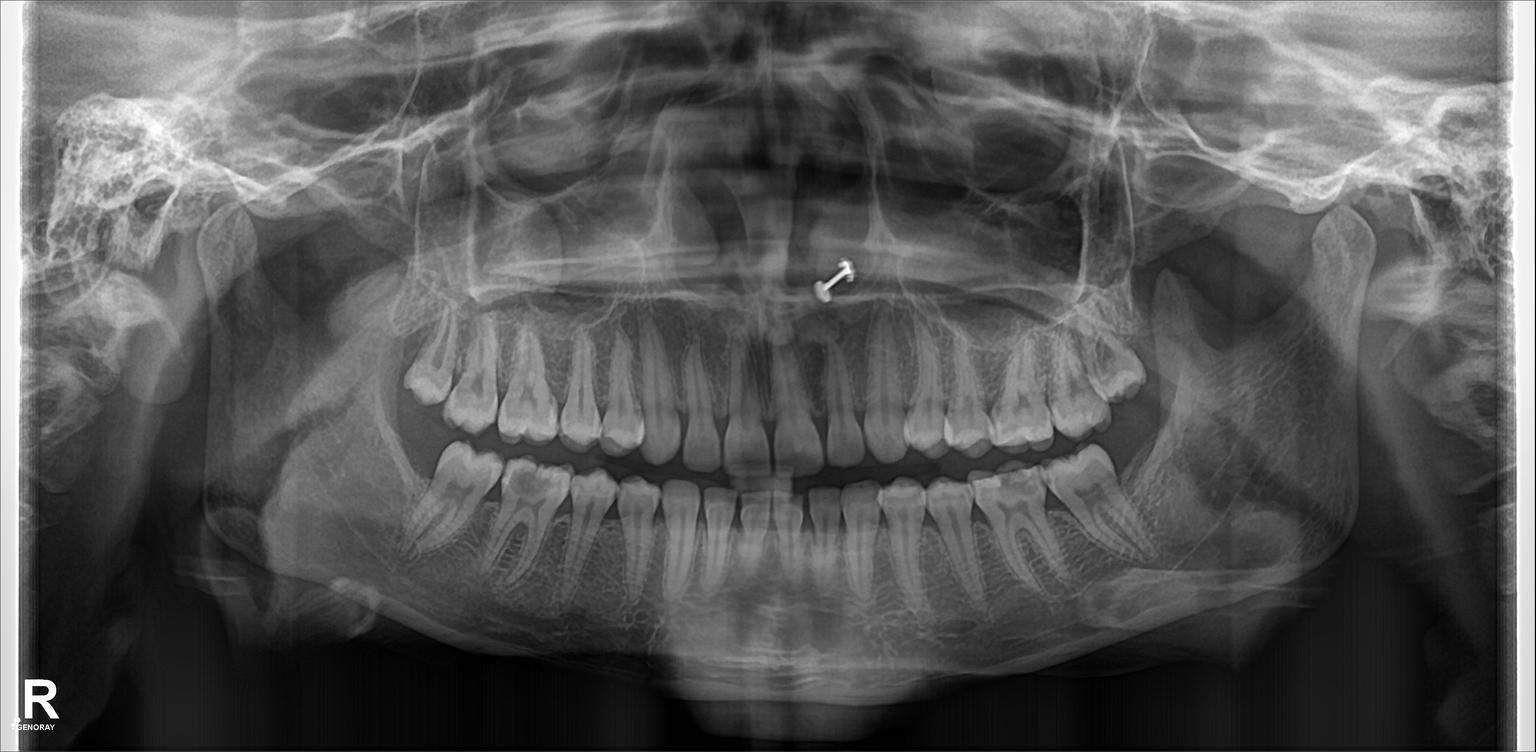Dental Caries: (507, 473, 559, 511), (1007, 463, 1043, 498)
Missing Tooth: (1112, 436, 1168, 526), (389, 430, 438, 529)
